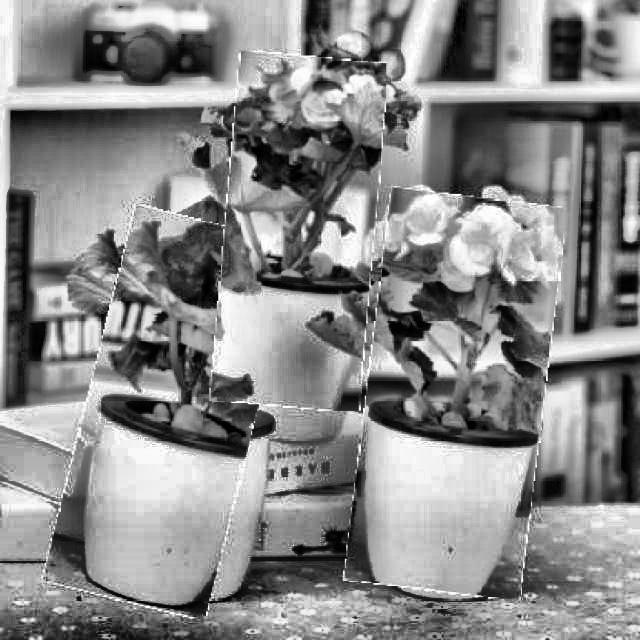plants: (64, 212, 276, 614), (354, 190, 554, 596), (218, 53, 380, 410)
